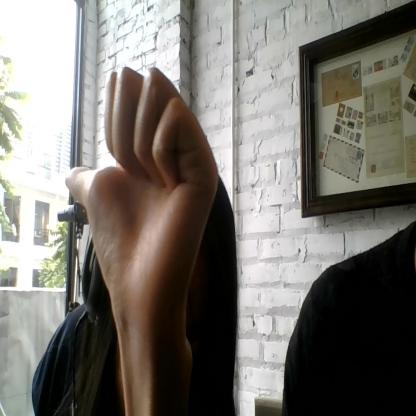right: (64, 69, 219, 298)
